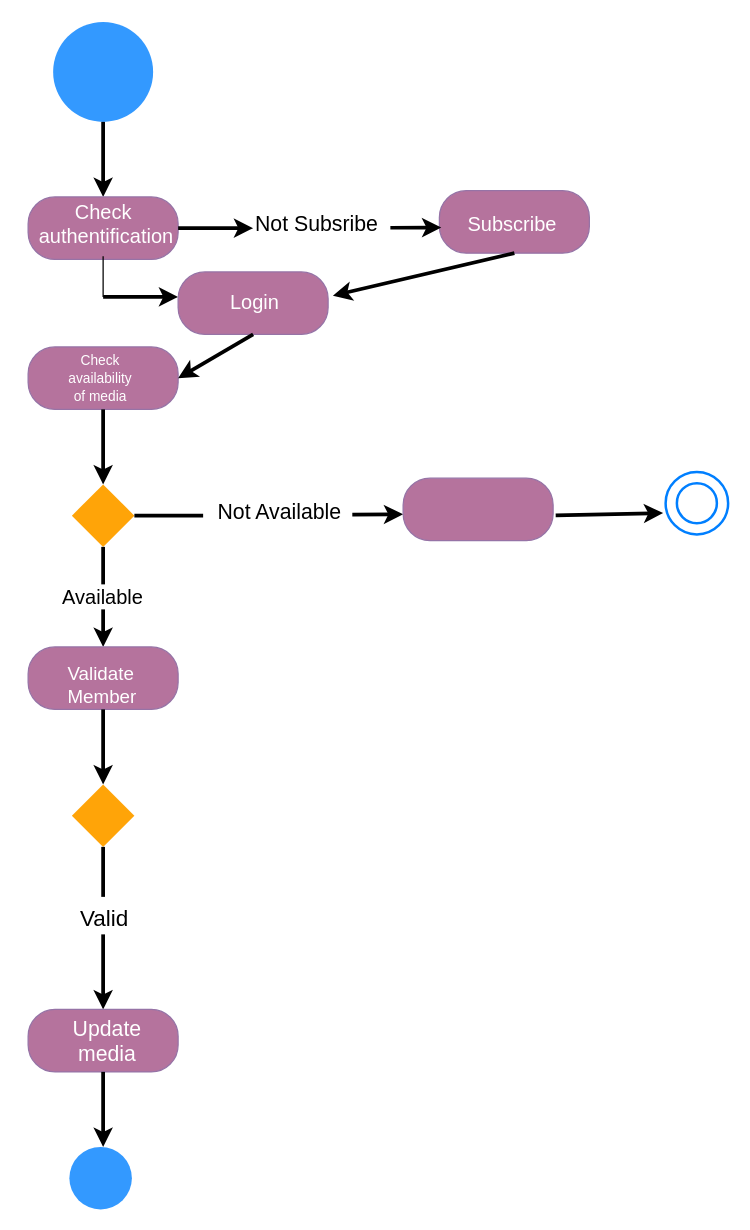
This 750x1230 diagram has some shape labels left out. Here are the shapes that lost their labels. From the top down, the centre of each, then its label:
At point (102, 71): "Start".
At point (477, 509): "Media Not Available".
At point (100, 1177): "End".
